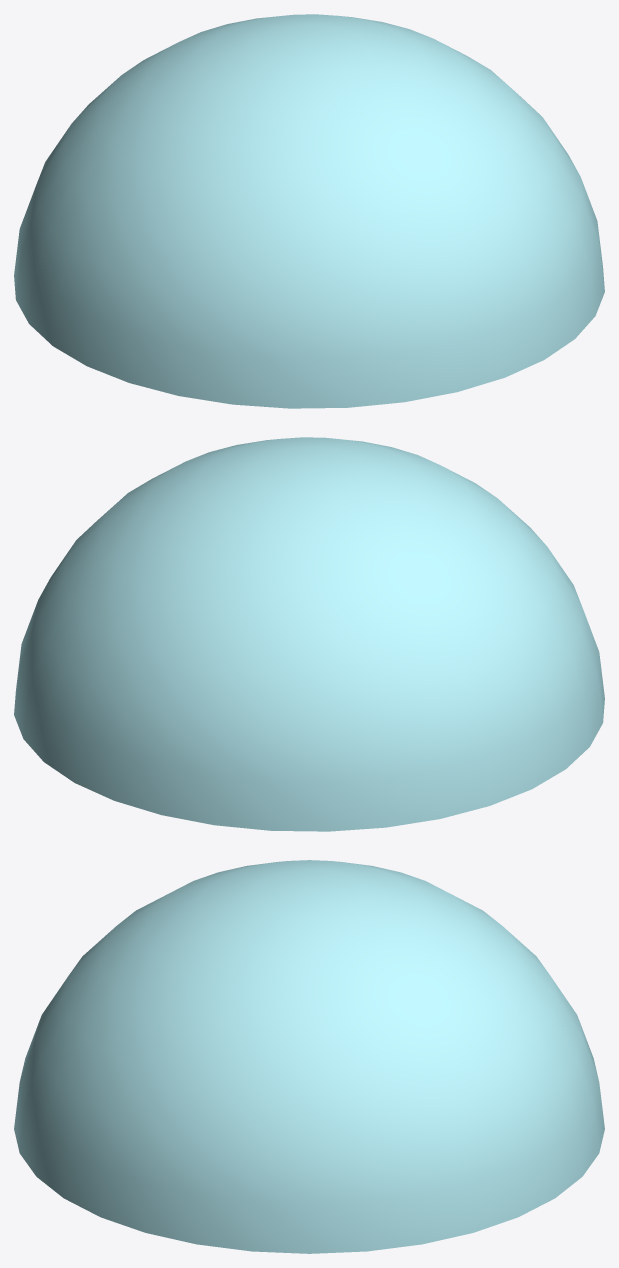
File: dome.FBX
3 views of the same model, one above another, from view 1: azimuth 30°, elevation 25°; view 2: azimuth 150°, elevation 25°; view 3: azimuth 270°, elevation 25° (orthographic).
Visible parts, largest first — view 1: dome; view 2: dome; view 3: dome.
Part boxes in pixels (bbox=[...]): dome: bbox=[14, 14, 604, 408]; dome: bbox=[14, 437, 604, 831]; dome: bbox=[14, 860, 604, 1253].
Size of the model in its own units: 70000 by 31284 by 70000.
